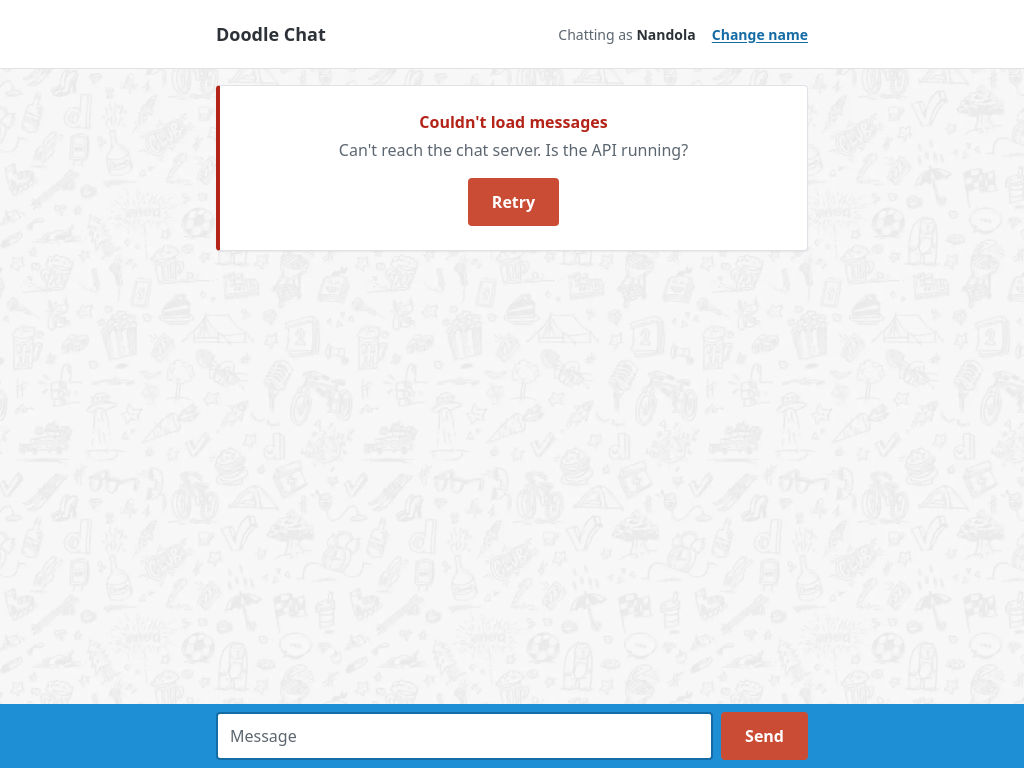
it: ChatPage › shows a message sent while the first page had failed
Type "Early bird" into the field labelled "Message".
click(465, 736); type("Early bird")  # box [216,712,713,760]
Then press Enter
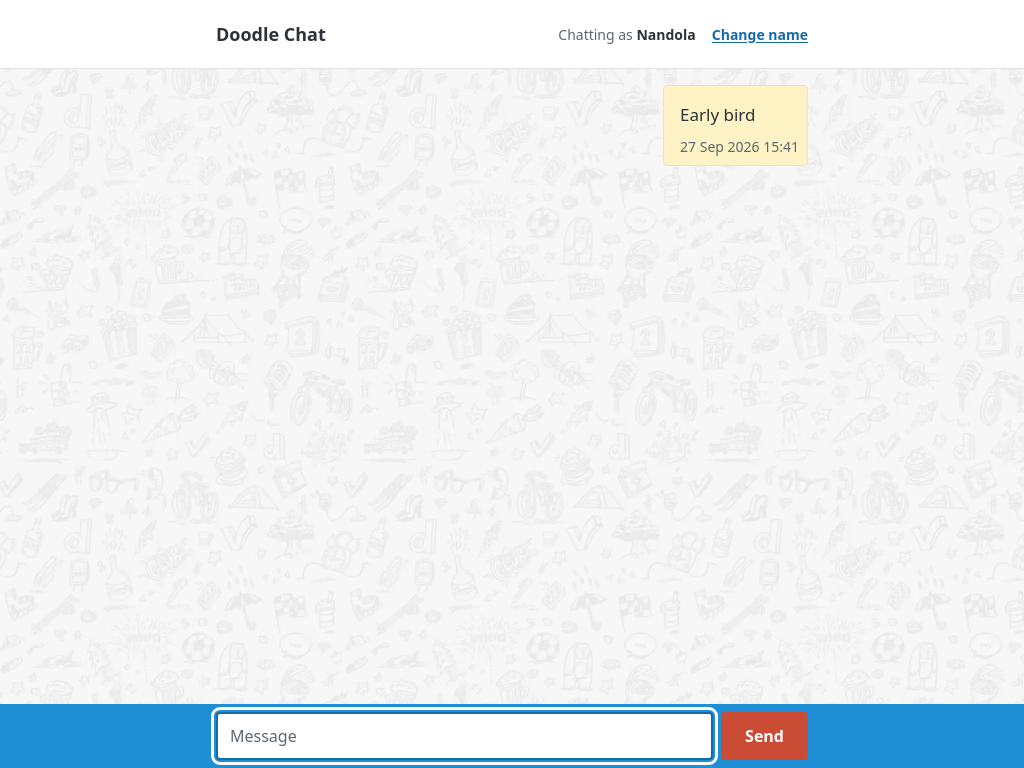
Now the text "Early bird" is shown, box [680,103,756,126]
